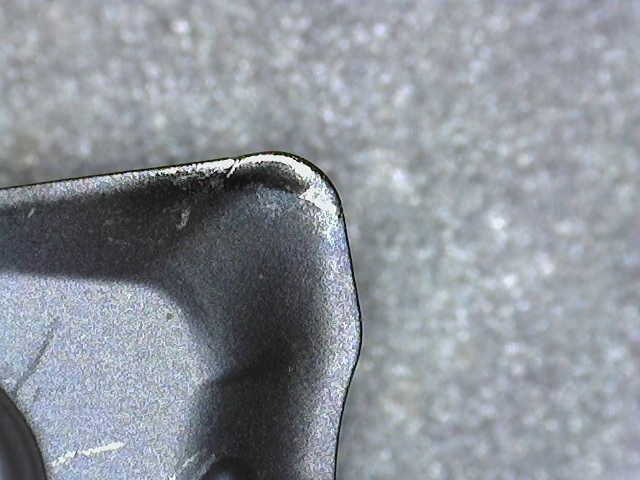normal: (313, 229, 358, 480), (1, 171, 181, 213)
wear: (159, 159, 341, 225)
